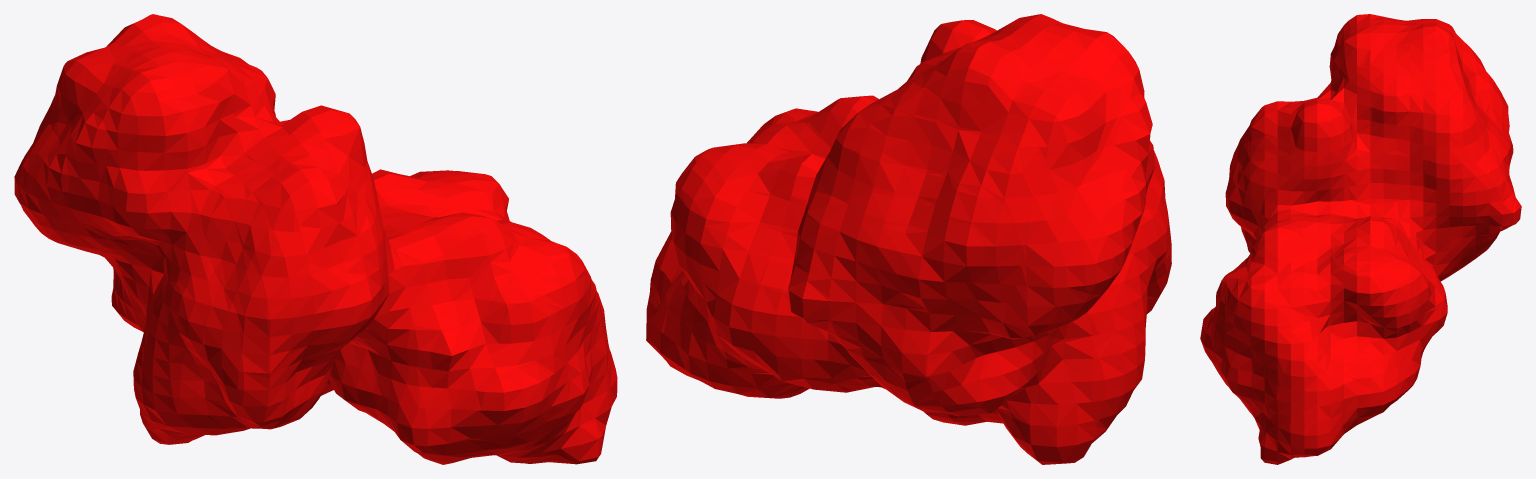
The model's file is gppA_coarse.dae.
3 renders of one model, left to right at view 1: azimuth 30°, elevation 25°; view 2: azimuth 150°, elevation 25°; view 3: azimuth 270°, elevation 25°, orthographic. The views are drawn at different scales.
Visible parts, largest first — view 1: gppA; view 2: gppA; view 3: gppA.
Boxes of the visible parts, x1,y1,x2,y2 form: gppA: (14,14,617,464); gppA: (646,14,1171,464); gppA: (1200,14,1521,464).
Size of the model in its own units: 81.46 by 69.25 by 62.23.
